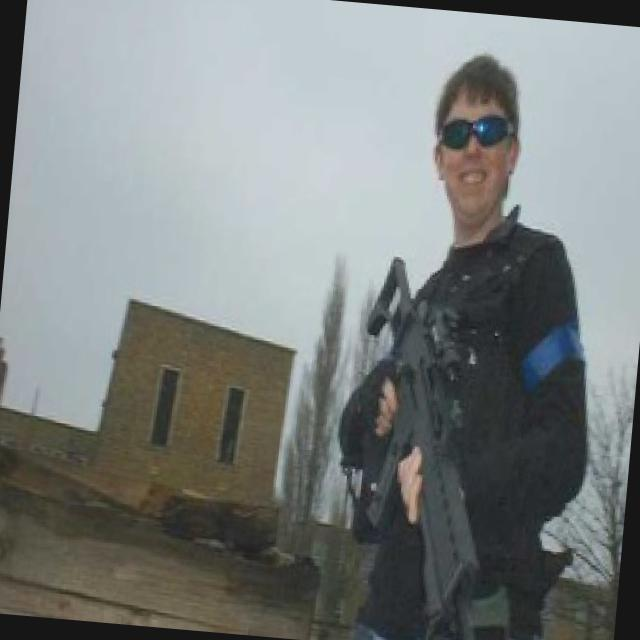long weapon: (297, 253, 559, 639)
